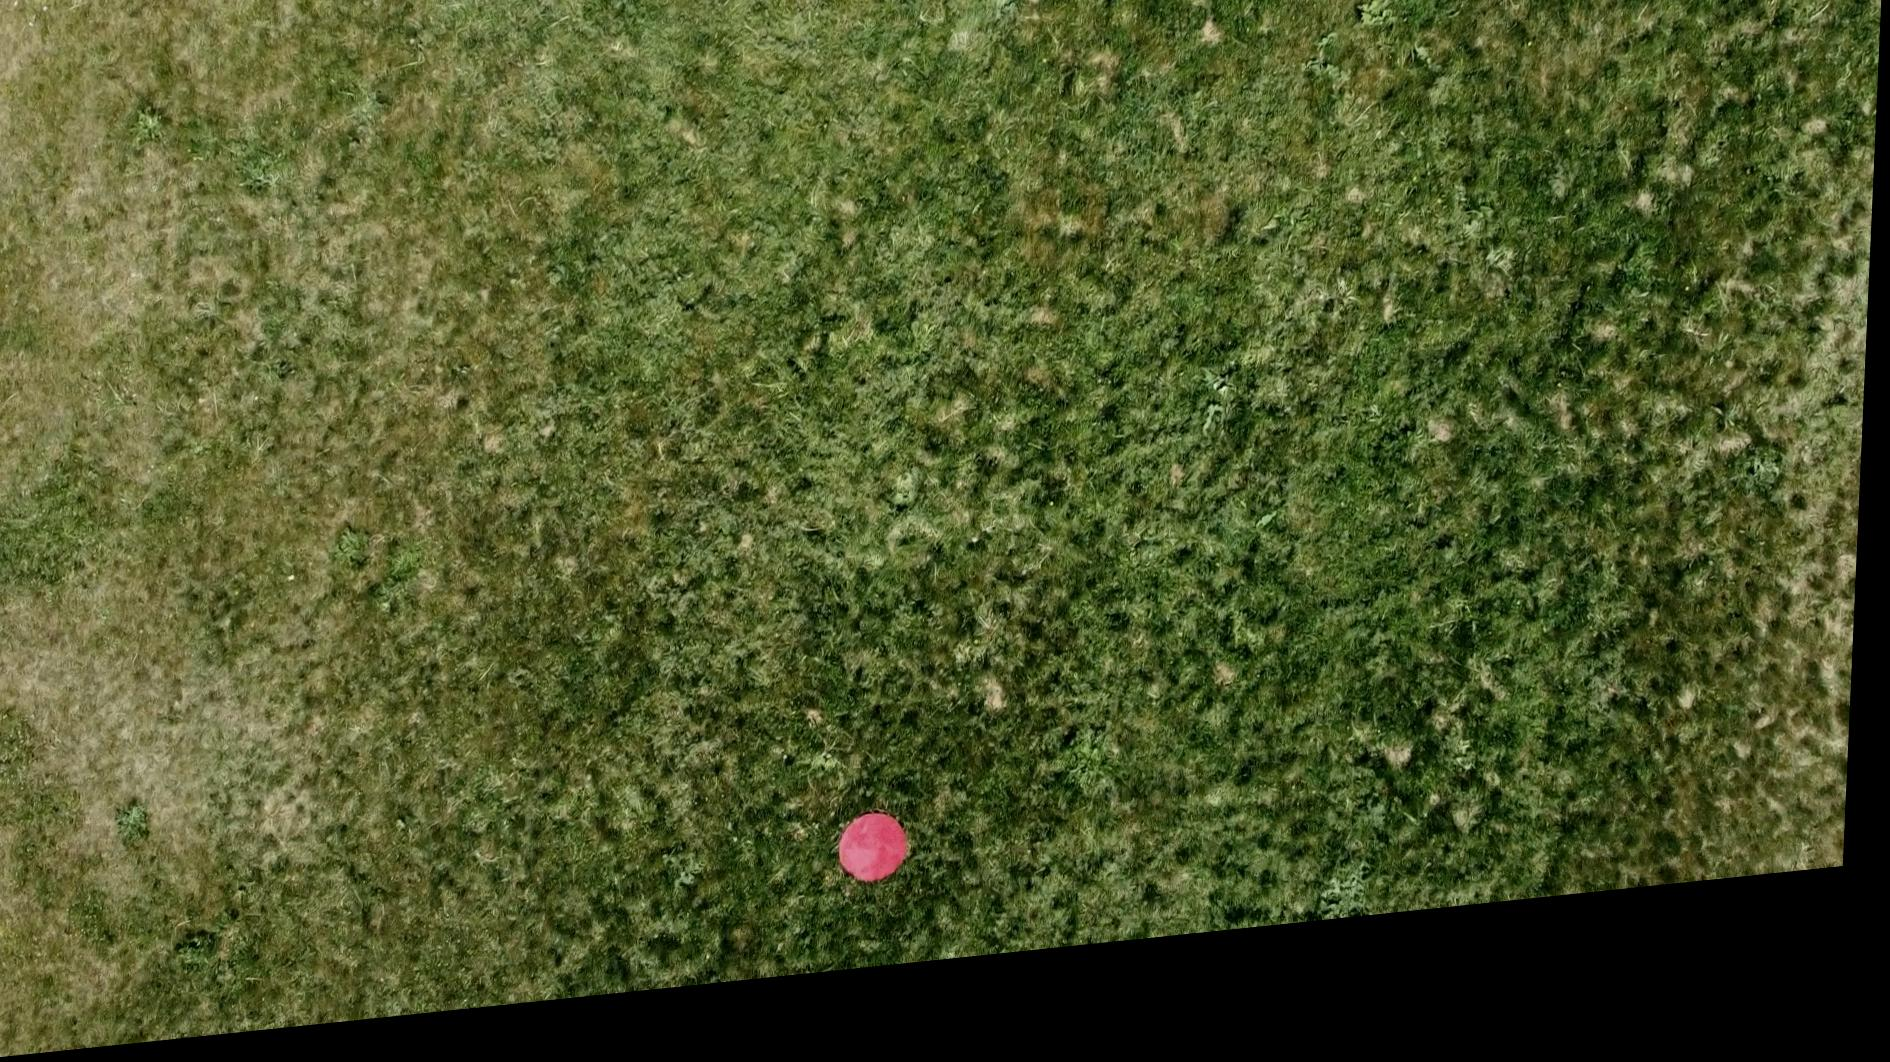Blue: (1354, 0, 1437, 10)
Red: (842, 824, 920, 906)
